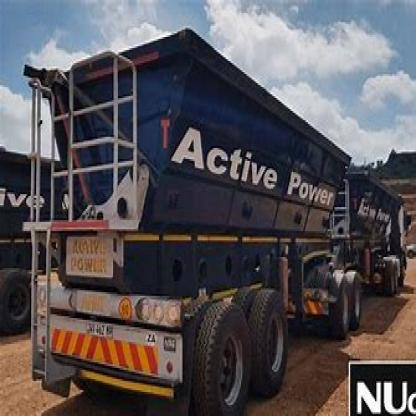dump_truck: (24, 34, 414, 400)
